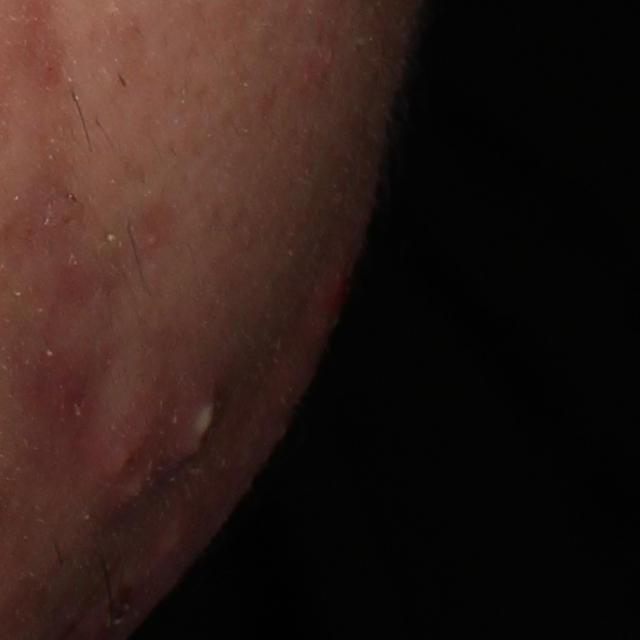papule: (309, 260, 356, 332), (109, 419, 151, 489), (111, 462, 160, 508)
pustule: (182, 391, 217, 454)
